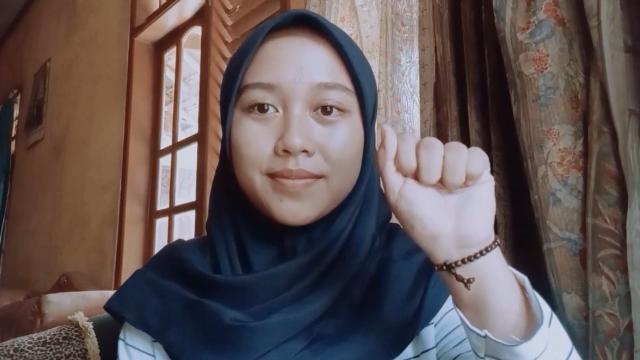A: (374, 122, 498, 256)
